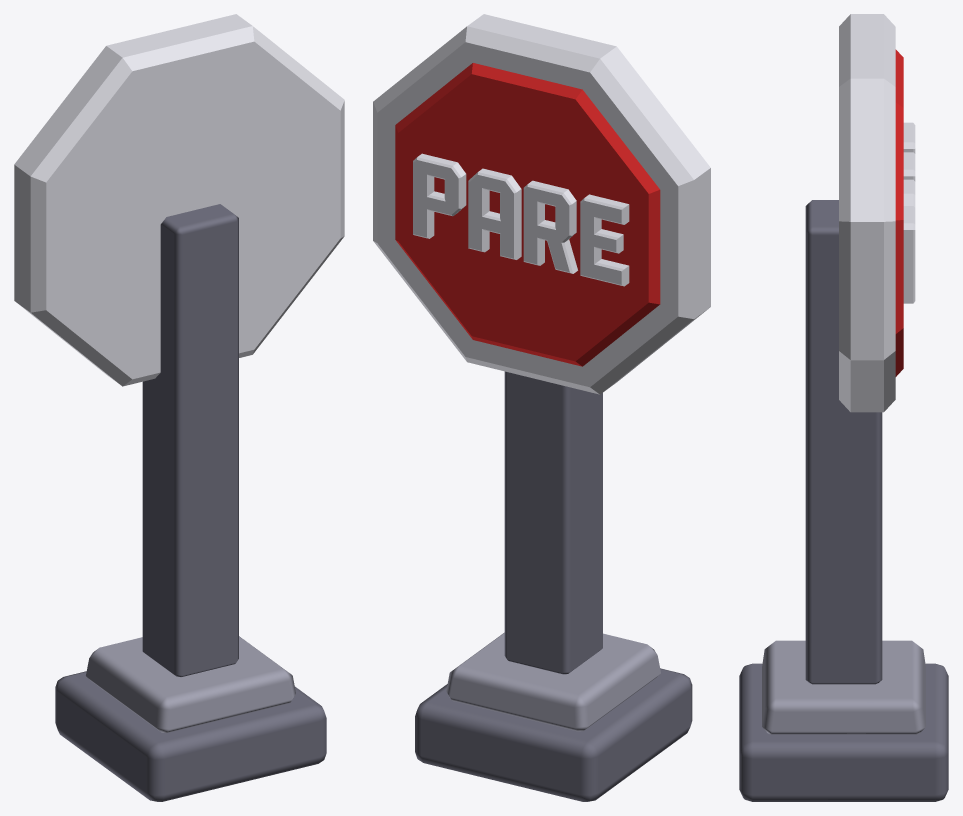
The model's file is StopSign.glb.
The picture shows the model from 3 angles, left to right: view 1: azimuth 30°, elevation 25°; view 2: azimuth 150°, elevation 25°; view 3: azimuth 270°, elevation 25°; orthographic projection. The views are drawn at different scales.
Parts seen in each view (by area): view 1: M_StopSign_PlaneBody, M_StopSign_Metal, M_StopSign_Steel; view 2: M_StopSign_PlaneBody, M_StopSign_Metal, M_StopSign_ToyRed, M_StopSign_Steel; view 3: M_StopSign_Metal, M_StopSign_PlaneBody, M_StopSign_Steel, M_StopSign_ToyRed.
Boxes of the visible parts, bbox=[...] form: M_StopSign_PlaneBody: bbox=[14, 14, 344, 386]; M_StopSign_Metal: bbox=[55, 204, 326, 801]; M_StopSign_Steel: bbox=[86, 636, 295, 733]; M_StopSign_PlaneBody: bbox=[373, 14, 710, 394]; M_StopSign_Metal: bbox=[415, 371, 692, 801]; M_StopSign_ToyRed: bbox=[395, 63, 660, 366]; M_StopSign_Steel: bbox=[446, 632, 660, 731]; M_StopSign_Metal: bbox=[739, 200, 948, 801]; M_StopSign_PlaneBody: bbox=[839, 14, 915, 412]; M_StopSign_Steel: bbox=[762, 640, 925, 734]; M_StopSign_ToyRed: bbox=[895, 49, 903, 376].
Size of the model in its own units: 2.22 by 4.76 by 1.26.
